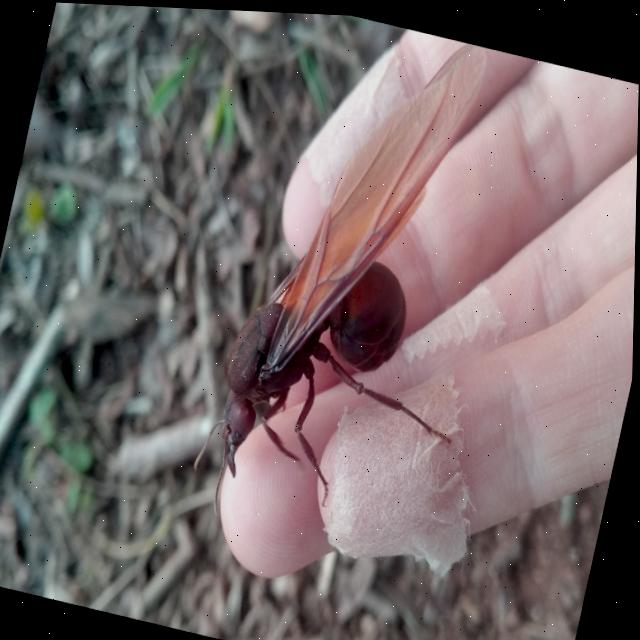Alive-Female-Alate: (185, 7, 537, 564)
